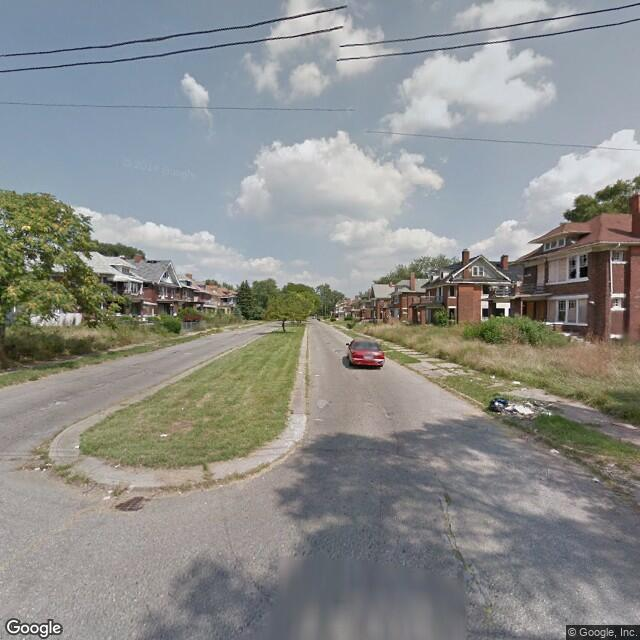litter: (492, 400, 544, 417), (544, 448, 566, 456), (104, 486, 113, 504), (32, 466, 49, 473), (589, 474, 600, 484), (159, 432, 169, 441), (605, 460, 614, 470), (75, 442, 82, 450)
